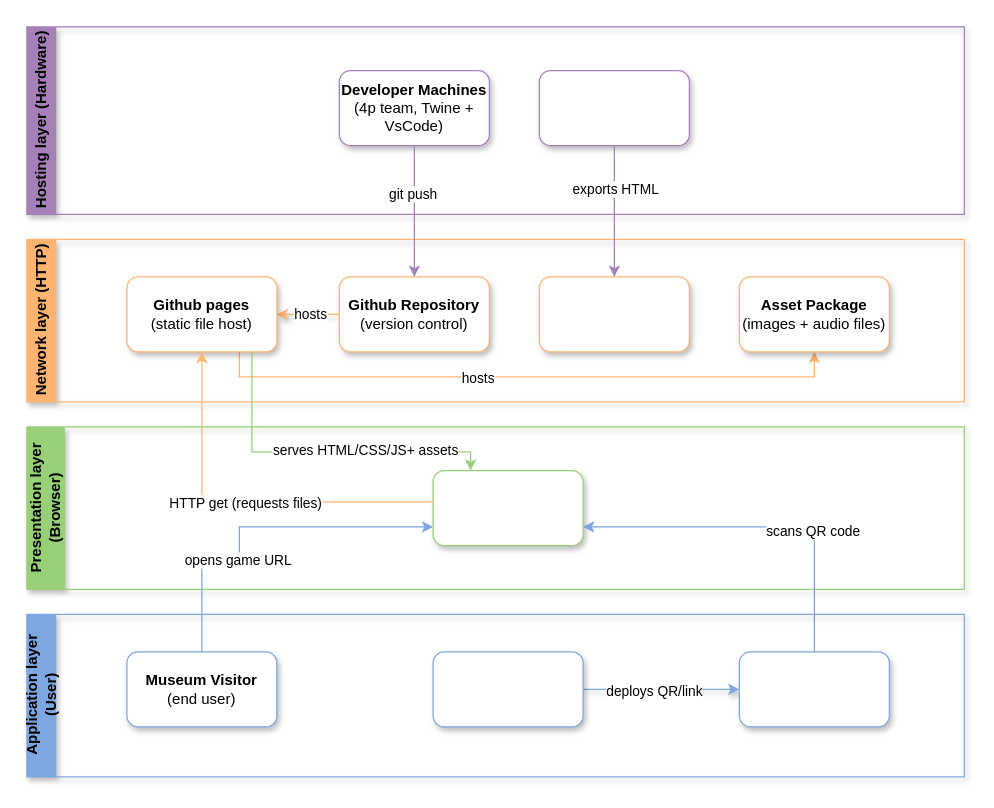
The diagram is 994 pixels wide and 808 high, and some of its shapes have lost their labels. The shapes that lost their labels are listed below. From the top down, each one's centre as x and y in pixels, then its label:
At point (615, 109): "Twine Authoring Tool (Offline, dev only)".
At point (615, 316): "HTML/CSS Bundle (Twine export + styling)".
At point (509, 509): "Web Browser (Chrome/ Firefox/ Safari)".
At point (509, 691): "Museum Institution (commissioner)".
At point (815, 691): "QR Code / Link (on-site or online)".
